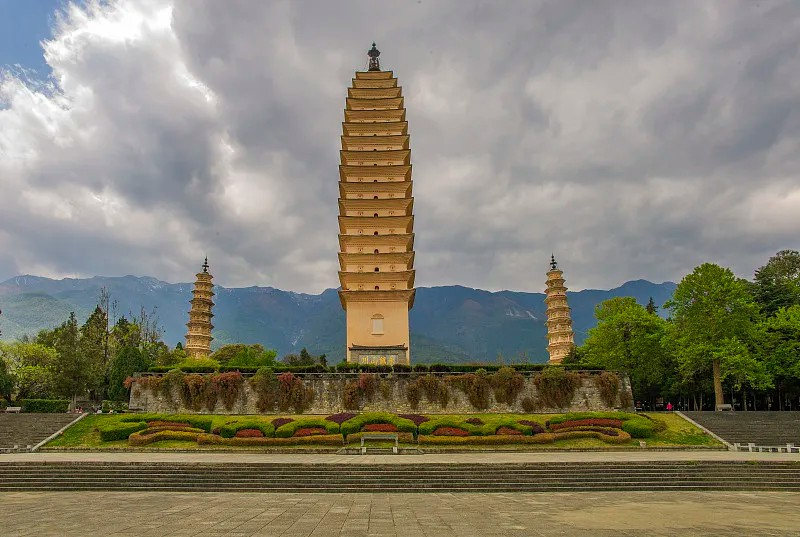ThreePagoda: (337, 41, 416, 363)
